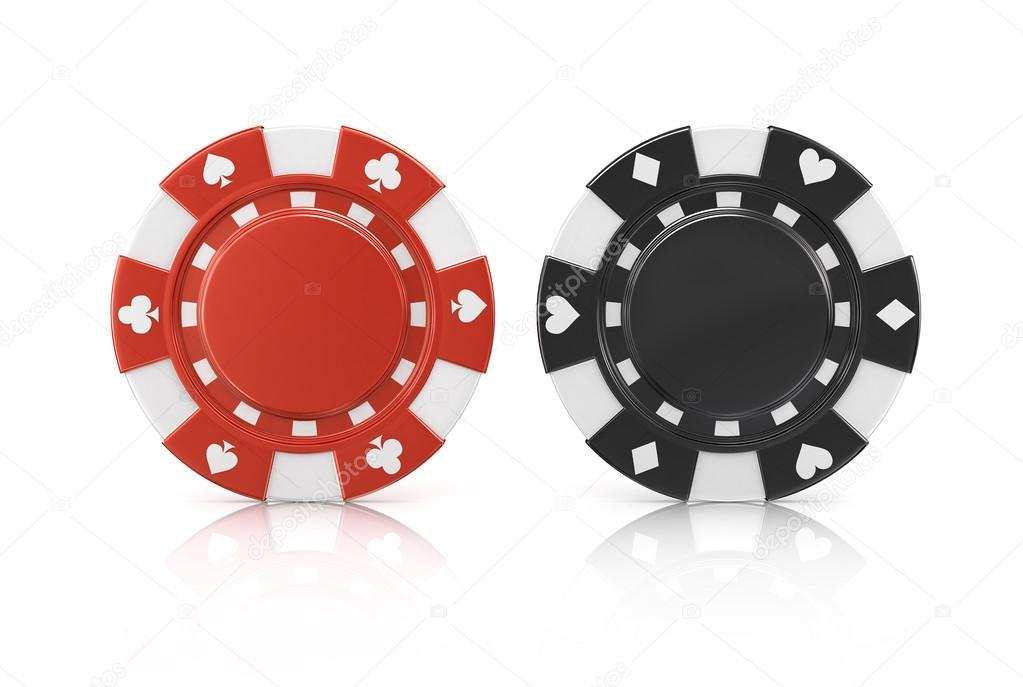chip-black: (537, 128, 921, 501)
chip-red: (110, 128, 496, 501)
